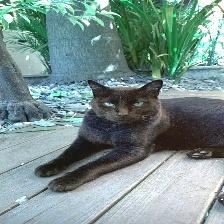kedo: (34, 80, 224, 192)
